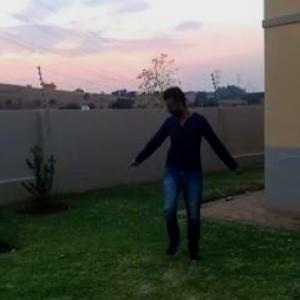land: (129, 89, 240, 261)
